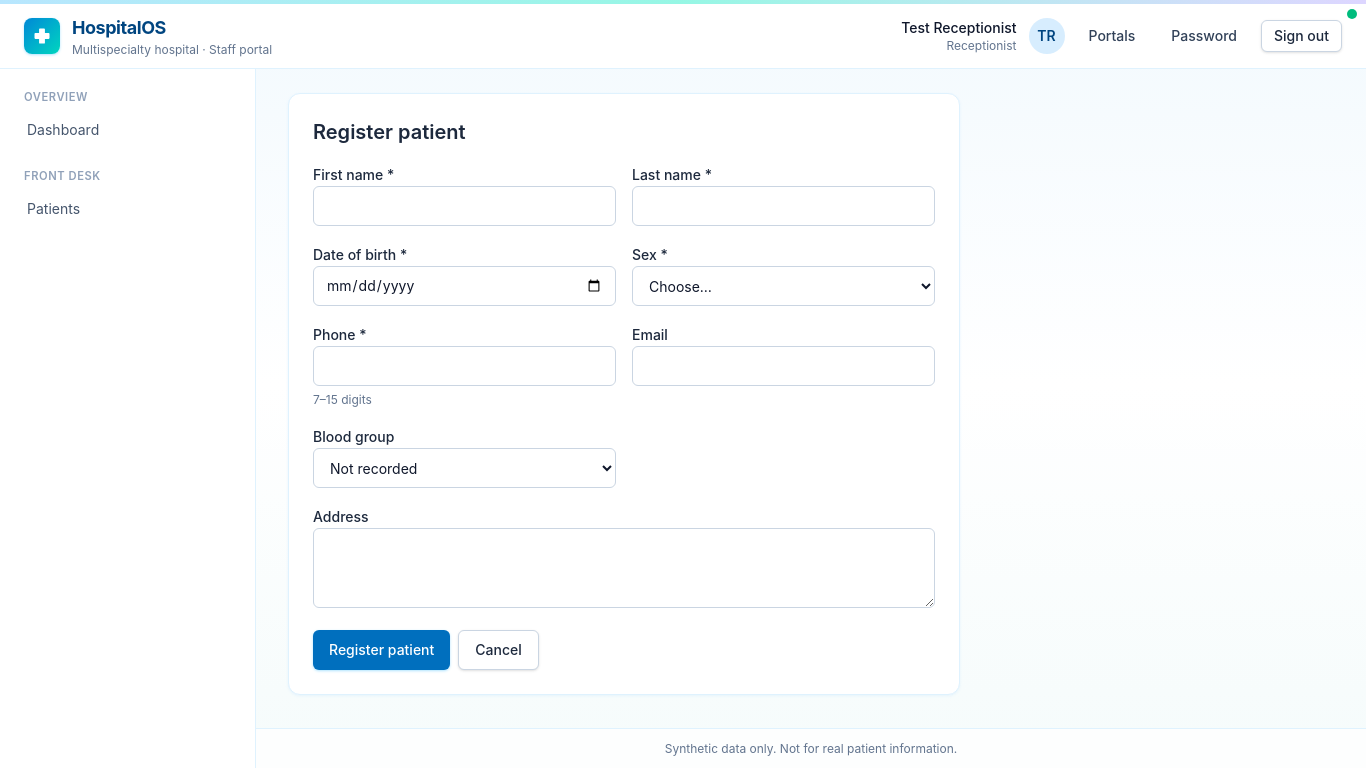
Scenario: patient registration › shows the API’s field errors (422) on the matching fields
Expected: the heading "Register patient" is shown, [313,120,466,144]
Type "Zz Test" into the field labelled "First name".
click(464, 206); type("Zz Test")  # box [313,186,616,226]
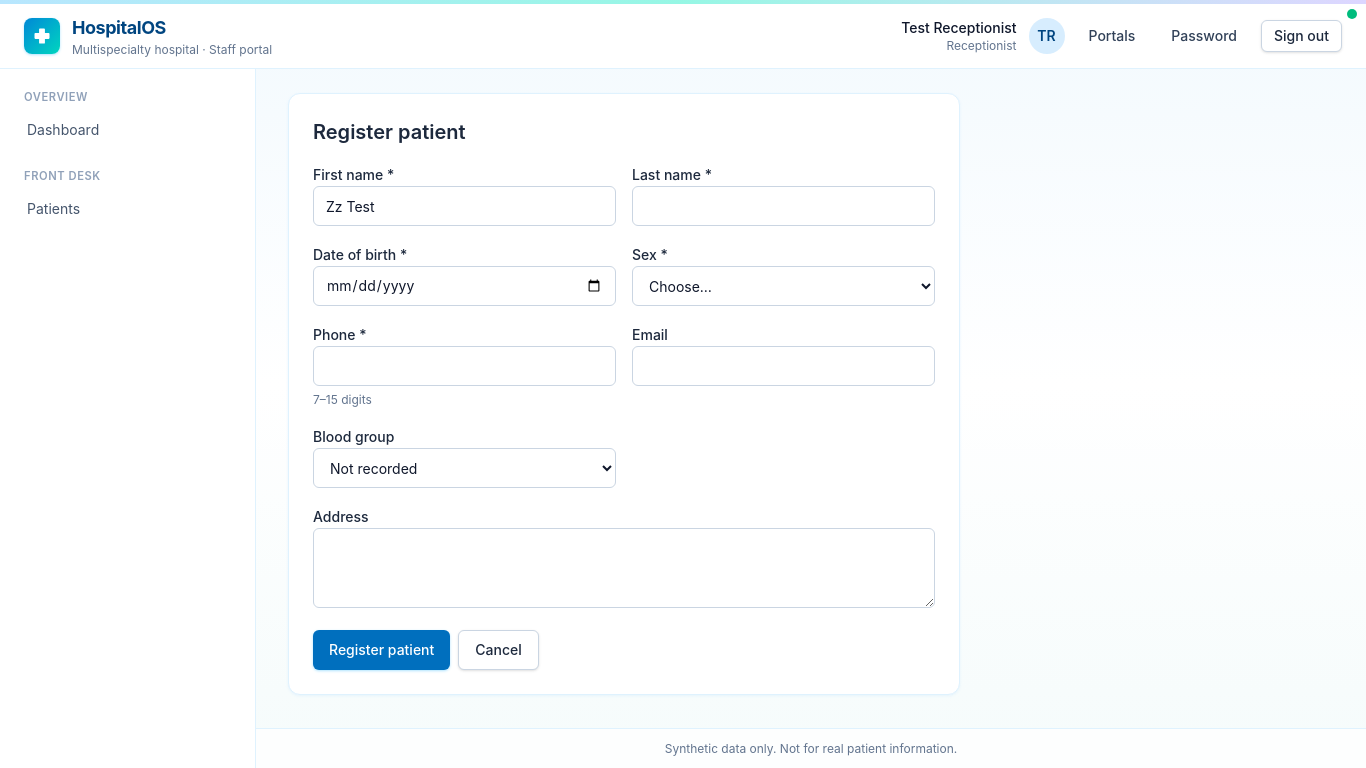
Type "Patient" into the field labelled "Last name".
click(784, 206); type("Patient")  # box [632,186,935,226]
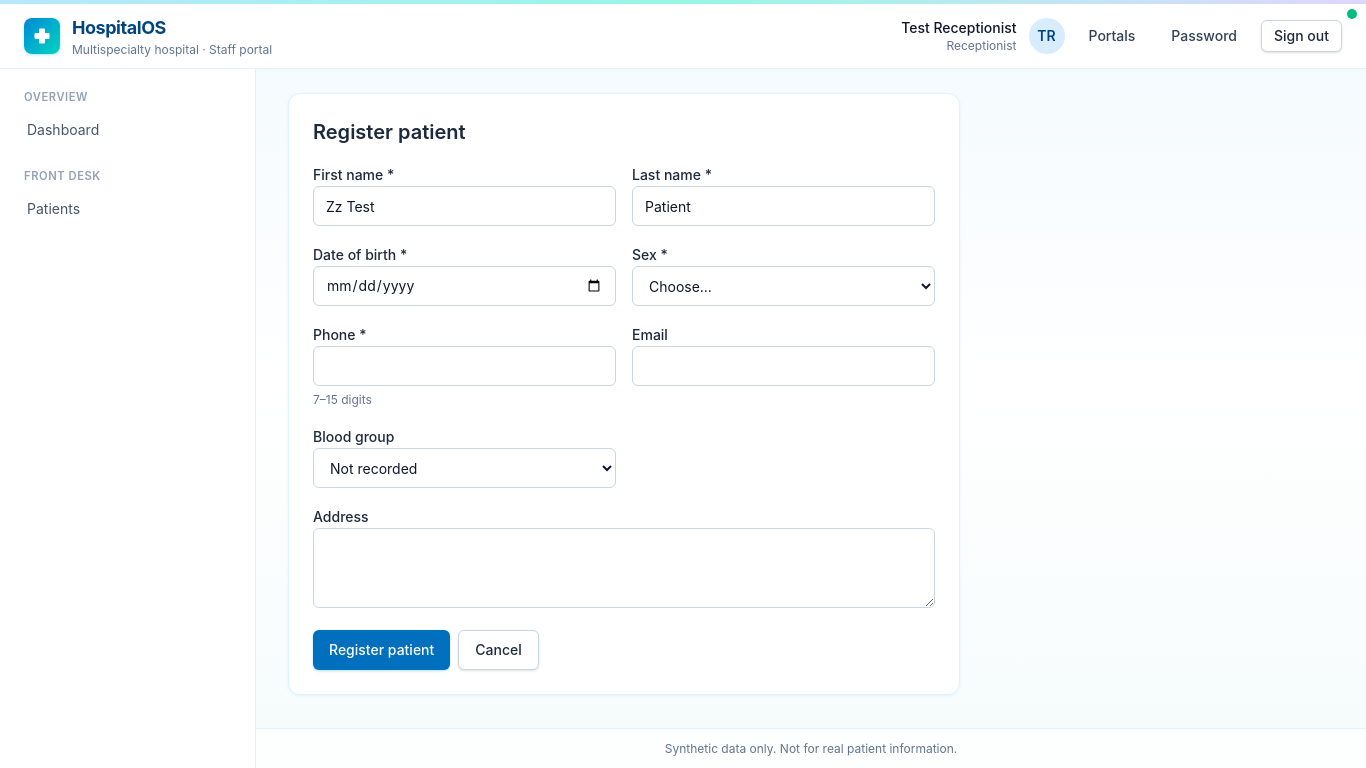
Type "1990-05-17" into the date field labelled "Date of birth".
click(464, 286); type("1990-05-17")  # box [313,266,616,306]
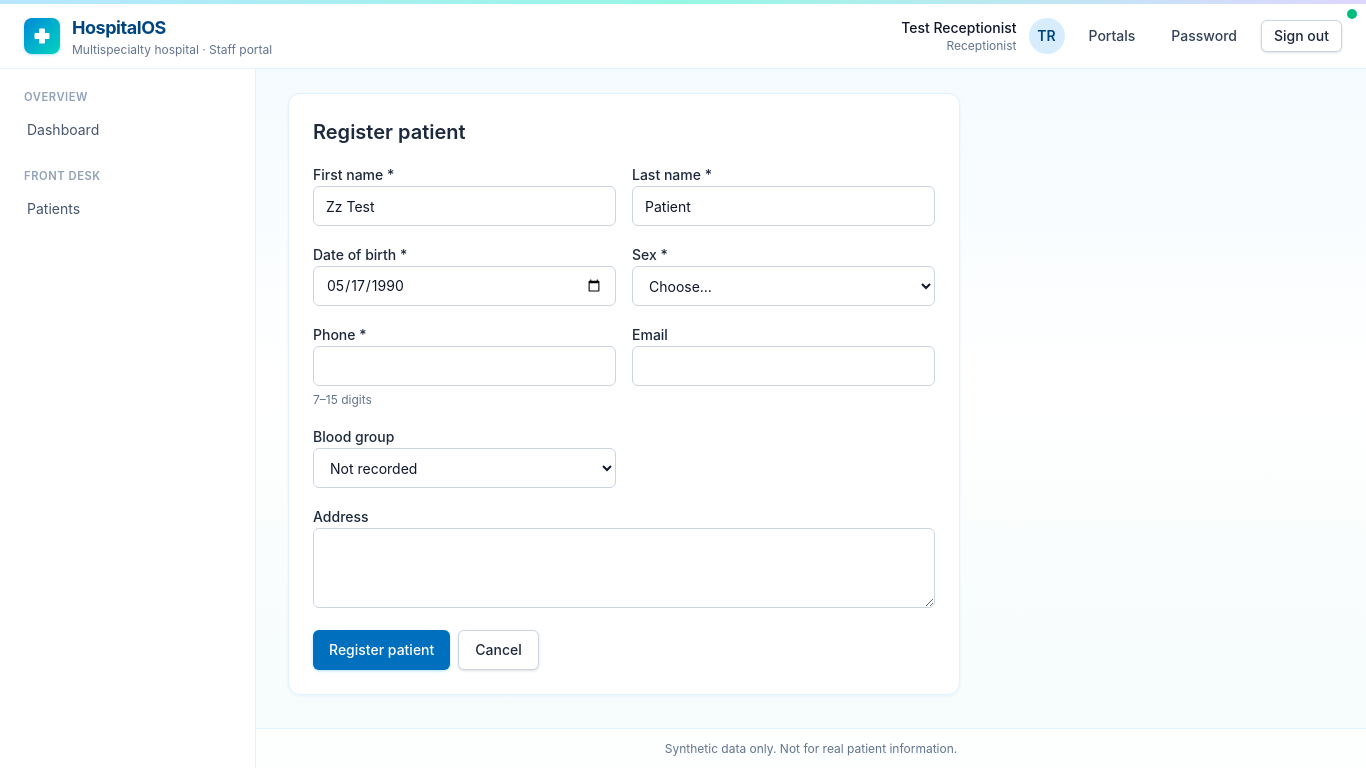
Select "Female" in the dropdown labelled "Sex" at (784, 286), box [632,266,935,306]
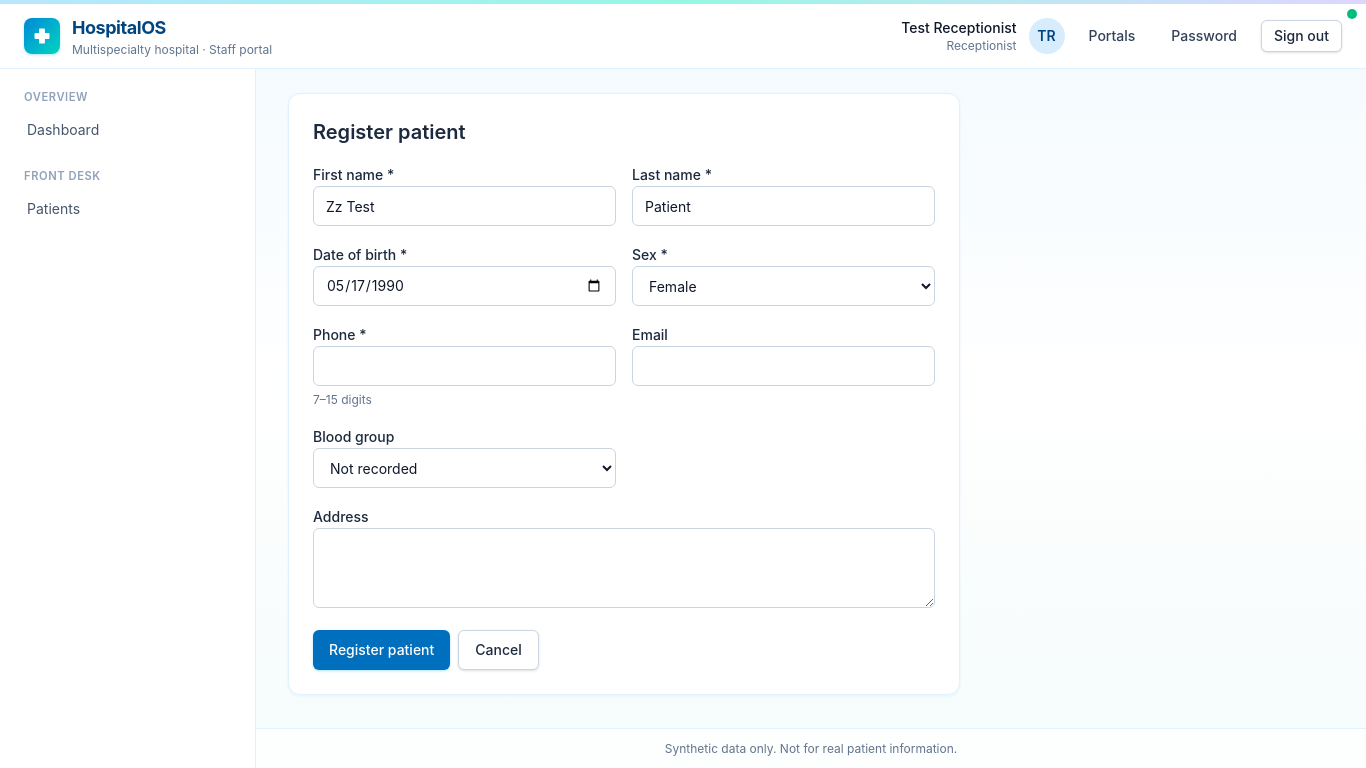
Type "90000 00042" into the field labelled "Phone".
click(464, 366); type("90000 00042")  # box [313,346,616,386]
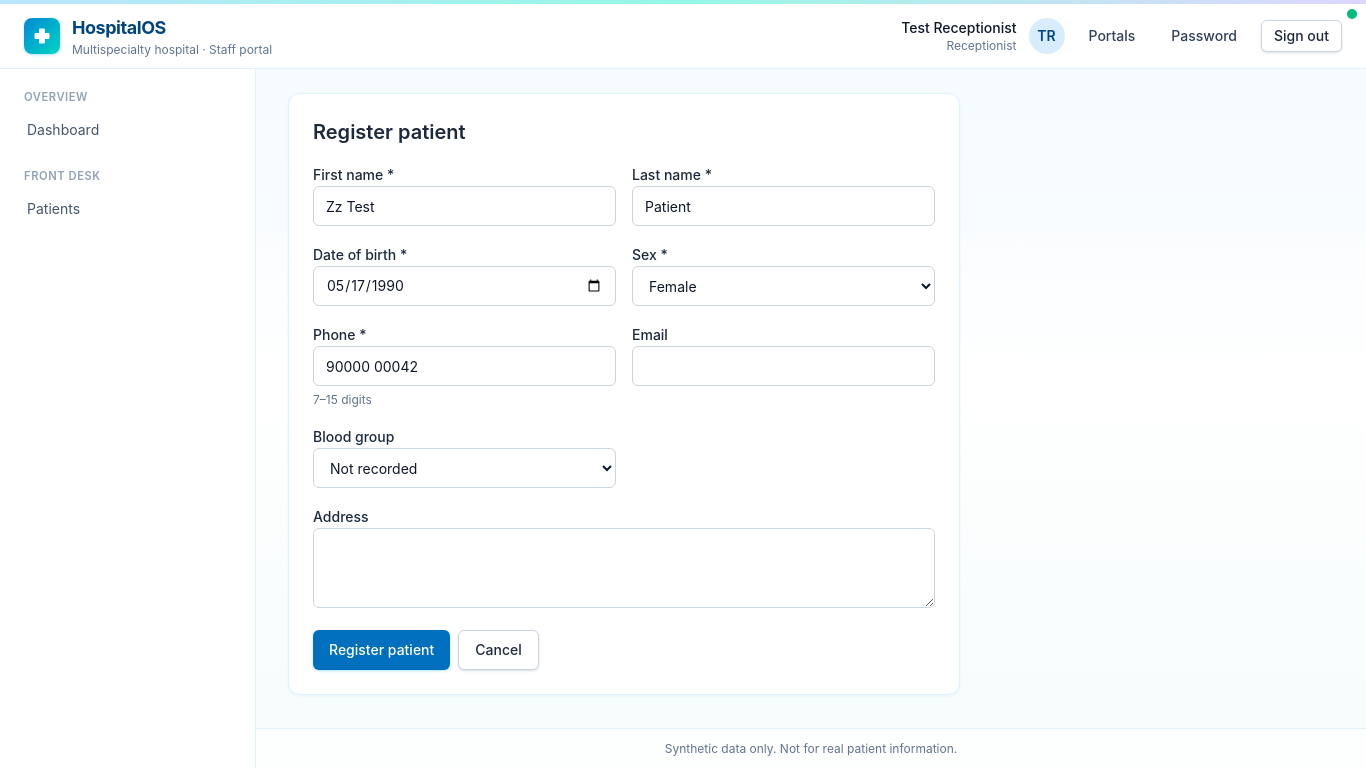
Click the button "Register patient".
click(382, 650)  # box [313,630,450,670]
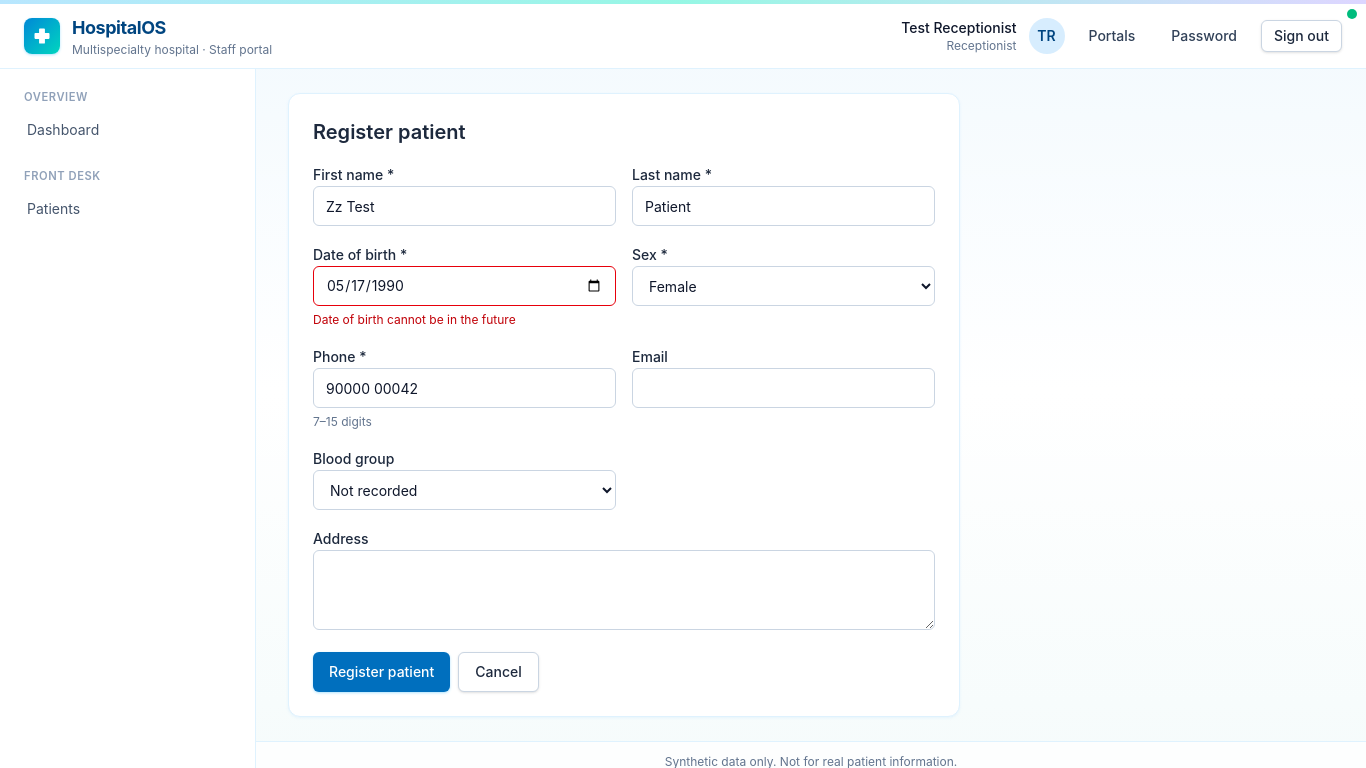
Now the text "Date of birth cannot be in the future" is shown, box [313,312,516,327]
